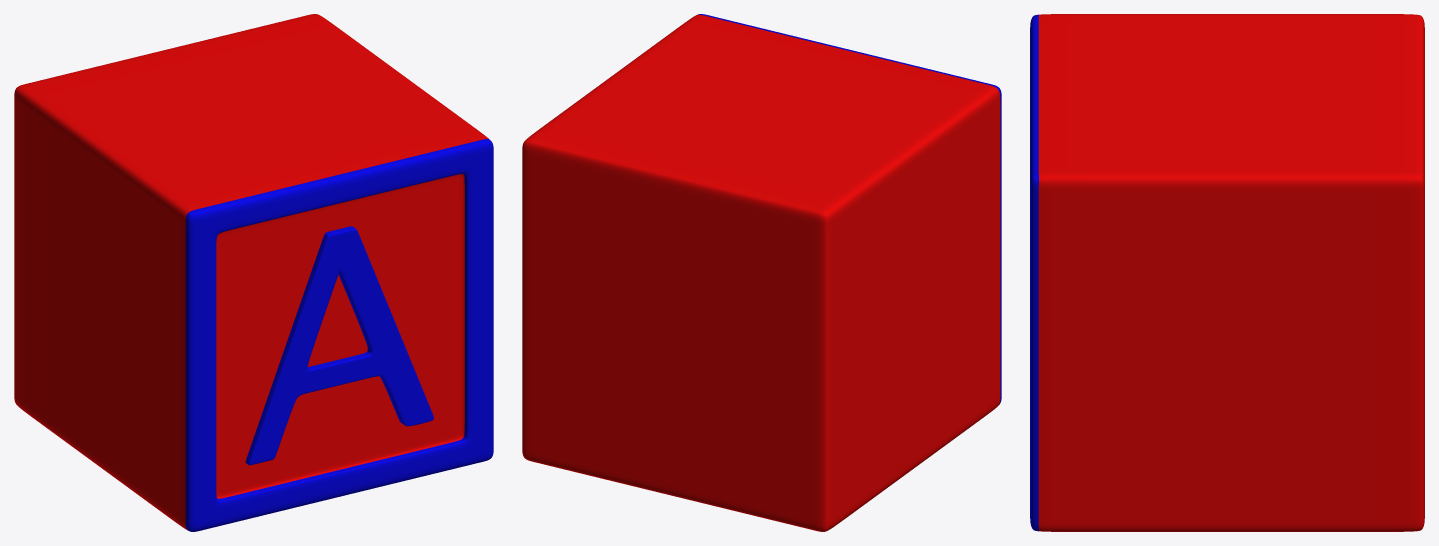
Rendered from Letter_Cubes_A_High.fbx.
3 views of the same model, side by side, from view 1: azimuth 30°, elevation 25°; view 2: azimuth 150°, elevation 25°; view 3: azimuth 270°, elevation 25° (orthographic). The views are drawn at different scales.
Parts seen in each view (by area): view 1: Cube_high, A_high; view 2: Cube_high; view 3: Cube_high.
Boxes of the visible parts, bbox=[...] form: Cube_high: bbox=[14, 14, 493, 531]; A_high: bbox=[245, 226, 433, 465]; Cube_high: bbox=[522, 14, 1001, 531]; Cube_high: bbox=[1030, 14, 1424, 531].
Bounding box in the file's own units: 80 × 80 × 80.
